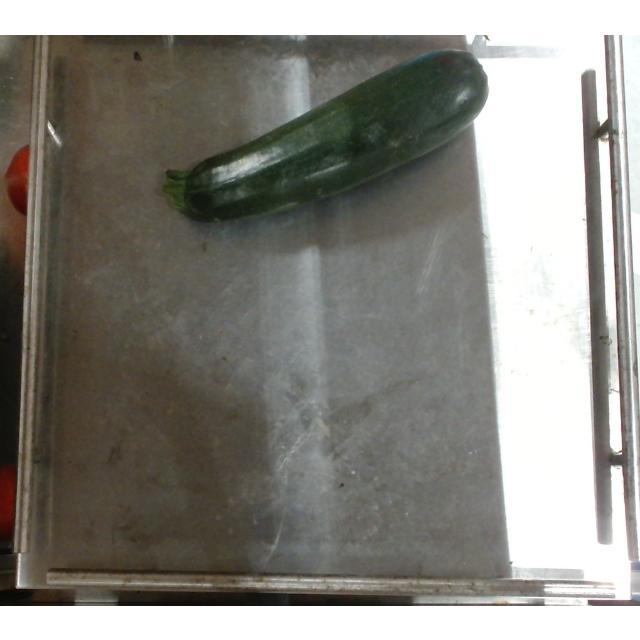cucumber: (163, 45, 495, 222)
